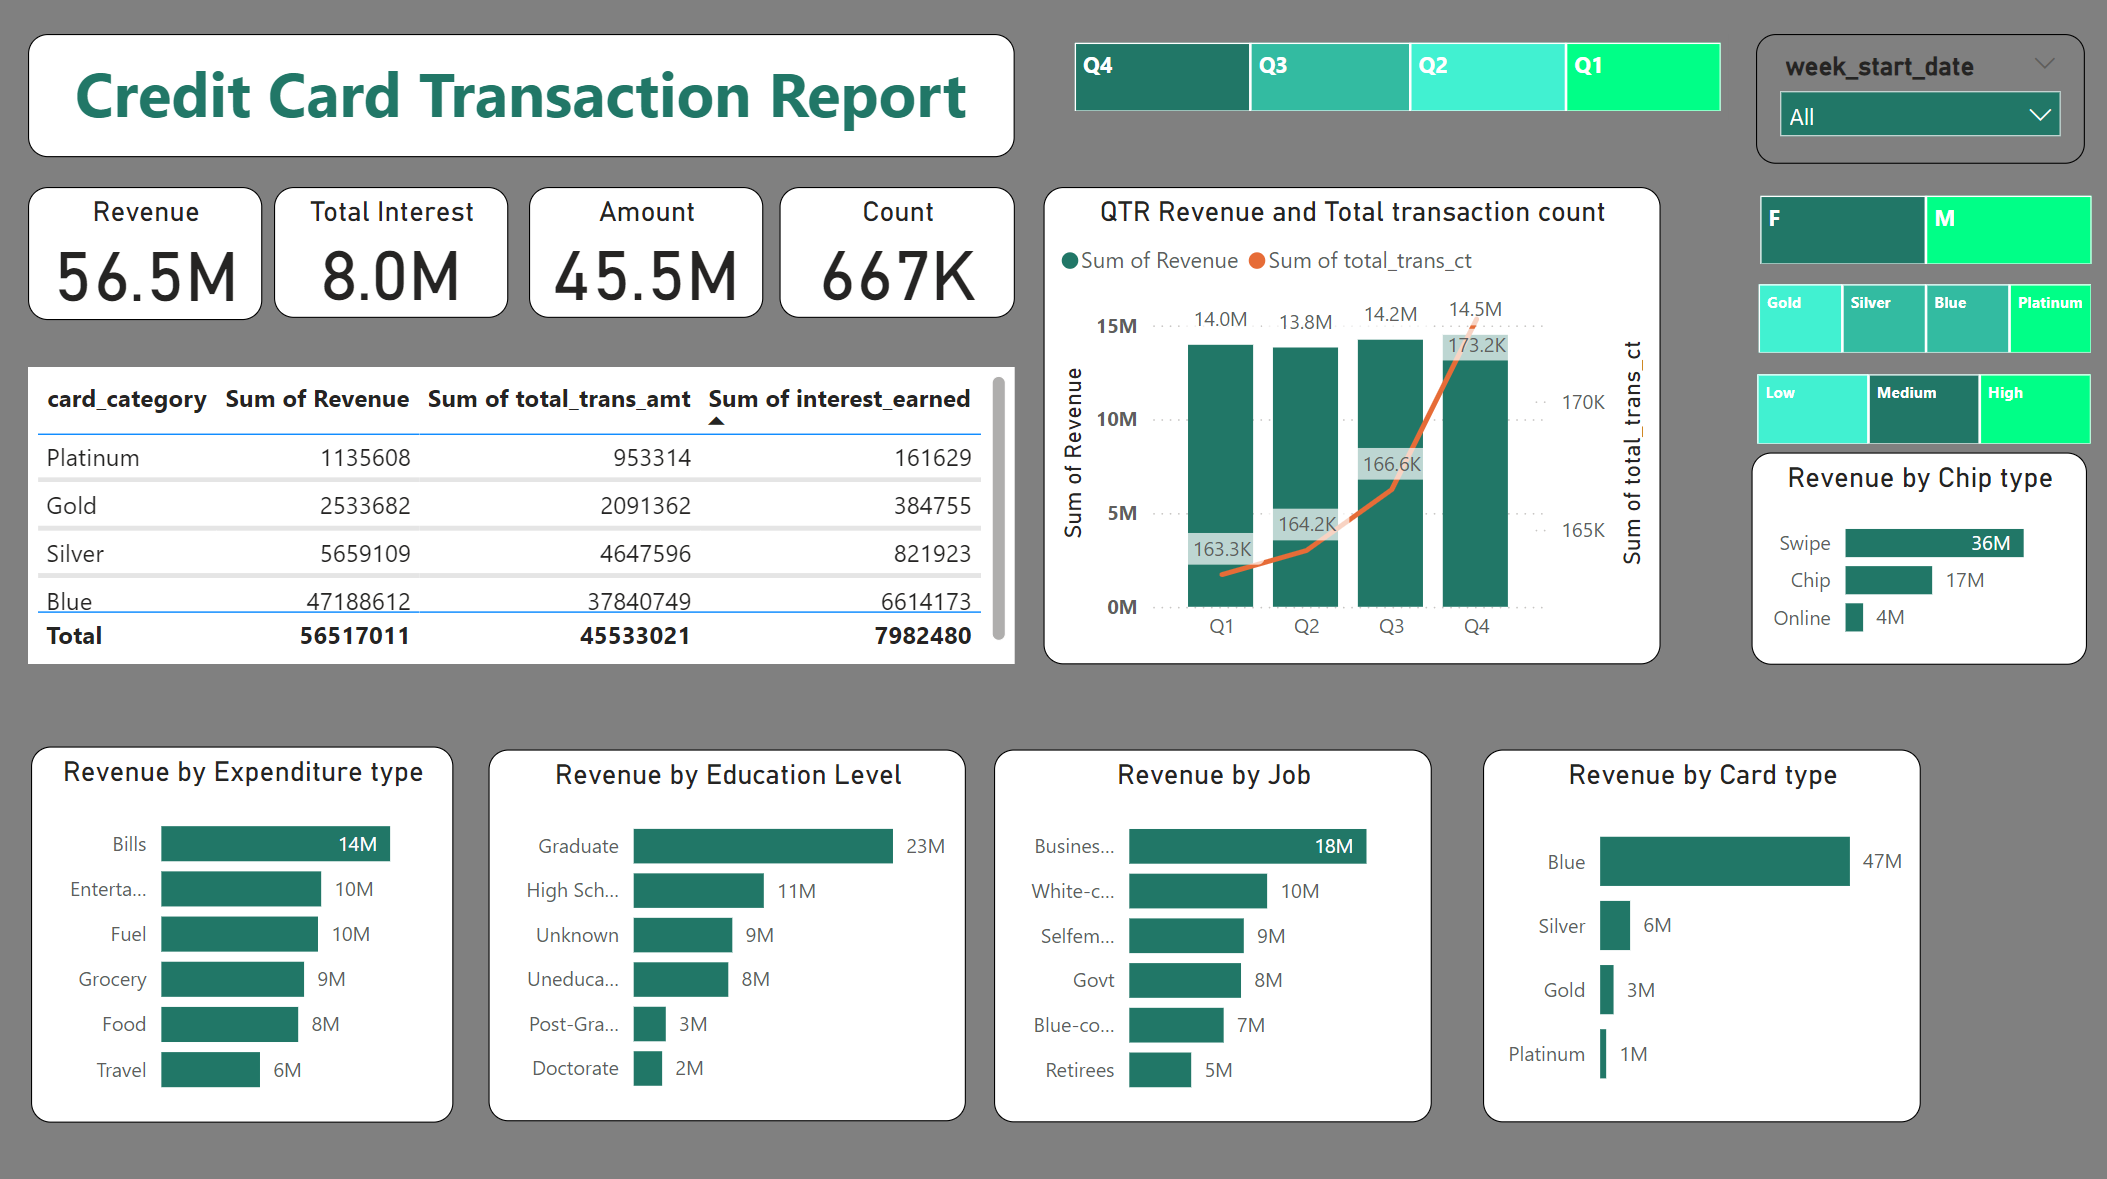

The page's visual inventory and layout, read from the dashboard file:
{"tool":"powerbi","page":{"name":"Credit Card Transaction","canvas":[1280,720],"ordinal":1},"visuals":[{"type":"textbox","box":[18.2,24,598,74.7],"z":0},{"type":"lineStackedColumnComboChart","title":"QTR Revenue and  Total transaction  count","fields":{"Category":["public cc_detail.qtr"],"Y":["Sum(public cc_detail.Revenue)"],"Y2":["Sum(public cc_detail.total_trans_ct)"]},"box":[633.5,116,373.7,289.4],"z":1000},{"type":"barChart","title":"Revenue by Expenditure type","fields":{"Y":["Sum(public cc_detail.Revenue)"],"Category":["public cc_detail.exp_type"]},"box":[20.1,455.2,255.9,228.1],"z":2000},{"type":"barChart","title":"Revenue by Education Level","fields":{"Y":["Sum(public cc_detail.Revenue)"],"Category":["public cust_detail.education_level"]},"box":[297.1,457.1,289.4,225.2],"z":3000},{"type":"barChart","title":"Revenue by Job","fields":{"Y":["Sum(public cc_detail.Revenue)"],"Category":["public cust_detail.customer_job"]},"box":[603.7,457.1,265.5,226.2],"z":4000},{"type":"barChart","title":"Revenue by Card type","fields":{"Y":["Sum(public cc_detail.Revenue)"],"Category":["public cc_detail.card_category"]},"box":[899.9,457.1,265.5,226.2],"z":5000},{"type":"barChart","title":"Revenue by Chip type","fields":{"Y":["Sum(public cc_detail.Revenue)"],"Category":["public cc_detail.use_chip"]},"box":[1062.8,277,203.2,128.4],"z":6000},{"type":"tableEx","fields":{"Values":["public cc_detail.card_category","Sum(public cc_detail.Revenue)","Sum(public cc_detail.total_trans_amt)","Sum(public cc_detail.interest_earned)"]},"box":[18.2,225.2,598,180.2],"z":7000},{"type":"card","title":"Revenue","fields":{"Values":["Sum(public cc_detail.Revenue)"]},"box":[18.2,116,141.8,80.5],"z":8000},{"type":"card","title":"Total Interest","fields":{"Values":["Sum(public cc_detail.interest_earned)"]},"box":[167.7,116,141.8,79.5],"z":9000},{"type":"card","title":"Amount","fields":{"Values":["Sum(public cc_detail.total_trans_amt)"]},"box":[322,116,141.8,79.5],"z":10000},{"type":"card","title":"Count","fields":{"Values":["Sum(public cc_detail.total_trans_ct)"]},"box":[473.4,116,142.8,79.5],"z":11000},{"type":"slicer","fields":{"Values":["public cc_detail.week_start_date"]},"box":[1065.7,24,199.3,78.6],"z":12000},{"type":"treemap","fields":{"Group":["public cc_detail.qtr"],"Values":["Avg(public cc_detail.client_num)"]},"box":[646.9,24,401.5,51.7],"z":13000},{"type":"treemap","fields":{"Values":["Avg(public cc_detail.client_num)"],"Group":["public cust_detail.gender"]},"box":[1062.8,116,210.8,51.7],"z":14000},{"type":"treemap","fields":{"Values":["Avg(public cc_detail.client_num)"],"Group":["public cc_detail.card_category"]},"box":[1061.8,169.6,211.8,51.7],"z":15000},{"type":"treemap","fields":{"Values":["Avg(public cc_detail.client_num)"],"Group":["public cust_detail.Income_Group"]},"box":[1061.3,224.9,212.3,52.4],"z":16000}]}

Visuals, with their boxes in screenshot pixels (x1, y1, x2, y2), scaled from the page's 1280x720 canvas onto the 2107x1179 screenshot:
textbox: bbox=[30, 39, 1014, 162]
"QTR Revenue and  Total transaction  count" lineStackedColumnComboChart: bbox=[1043, 190, 1658, 664]
"Revenue by Expenditure type" barChart: bbox=[33, 745, 454, 1119]
"Revenue by Education Level" barChart: bbox=[489, 749, 965, 1117]
"Revenue by Job" barChart: bbox=[994, 749, 1431, 1119]
"Revenue by Card type" barChart: bbox=[1481, 749, 1918, 1119]
"Revenue by Chip type" barChart: bbox=[1749, 454, 2084, 664]
tableEx - public cc_detail.card_category x Sum(public cc_detail.Revenue): bbox=[30, 369, 1014, 664]
"Revenue" card: bbox=[30, 190, 263, 322]
"Total Interest" card: bbox=[276, 190, 509, 320]
"Amount" card: bbox=[530, 190, 763, 320]
"Count" card: bbox=[779, 190, 1014, 320]
slicer - public cc_detail.week_start_date: bbox=[1754, 39, 2082, 168]
treemap - public cc_detail.qtr x Avg(public cc_detail.client_num): bbox=[1065, 39, 1726, 124]
treemap - Avg(public cc_detail.client_num) x public cust_detail.gender: bbox=[1749, 190, 2096, 275]
treemap - Avg(public cc_detail.client_num) x public cc_detail.card_category: bbox=[1748, 278, 2096, 362]
treemap - Avg(public cc_detail.client_num) x public cust_detail.Income_Group: bbox=[1747, 368, 2096, 454]
